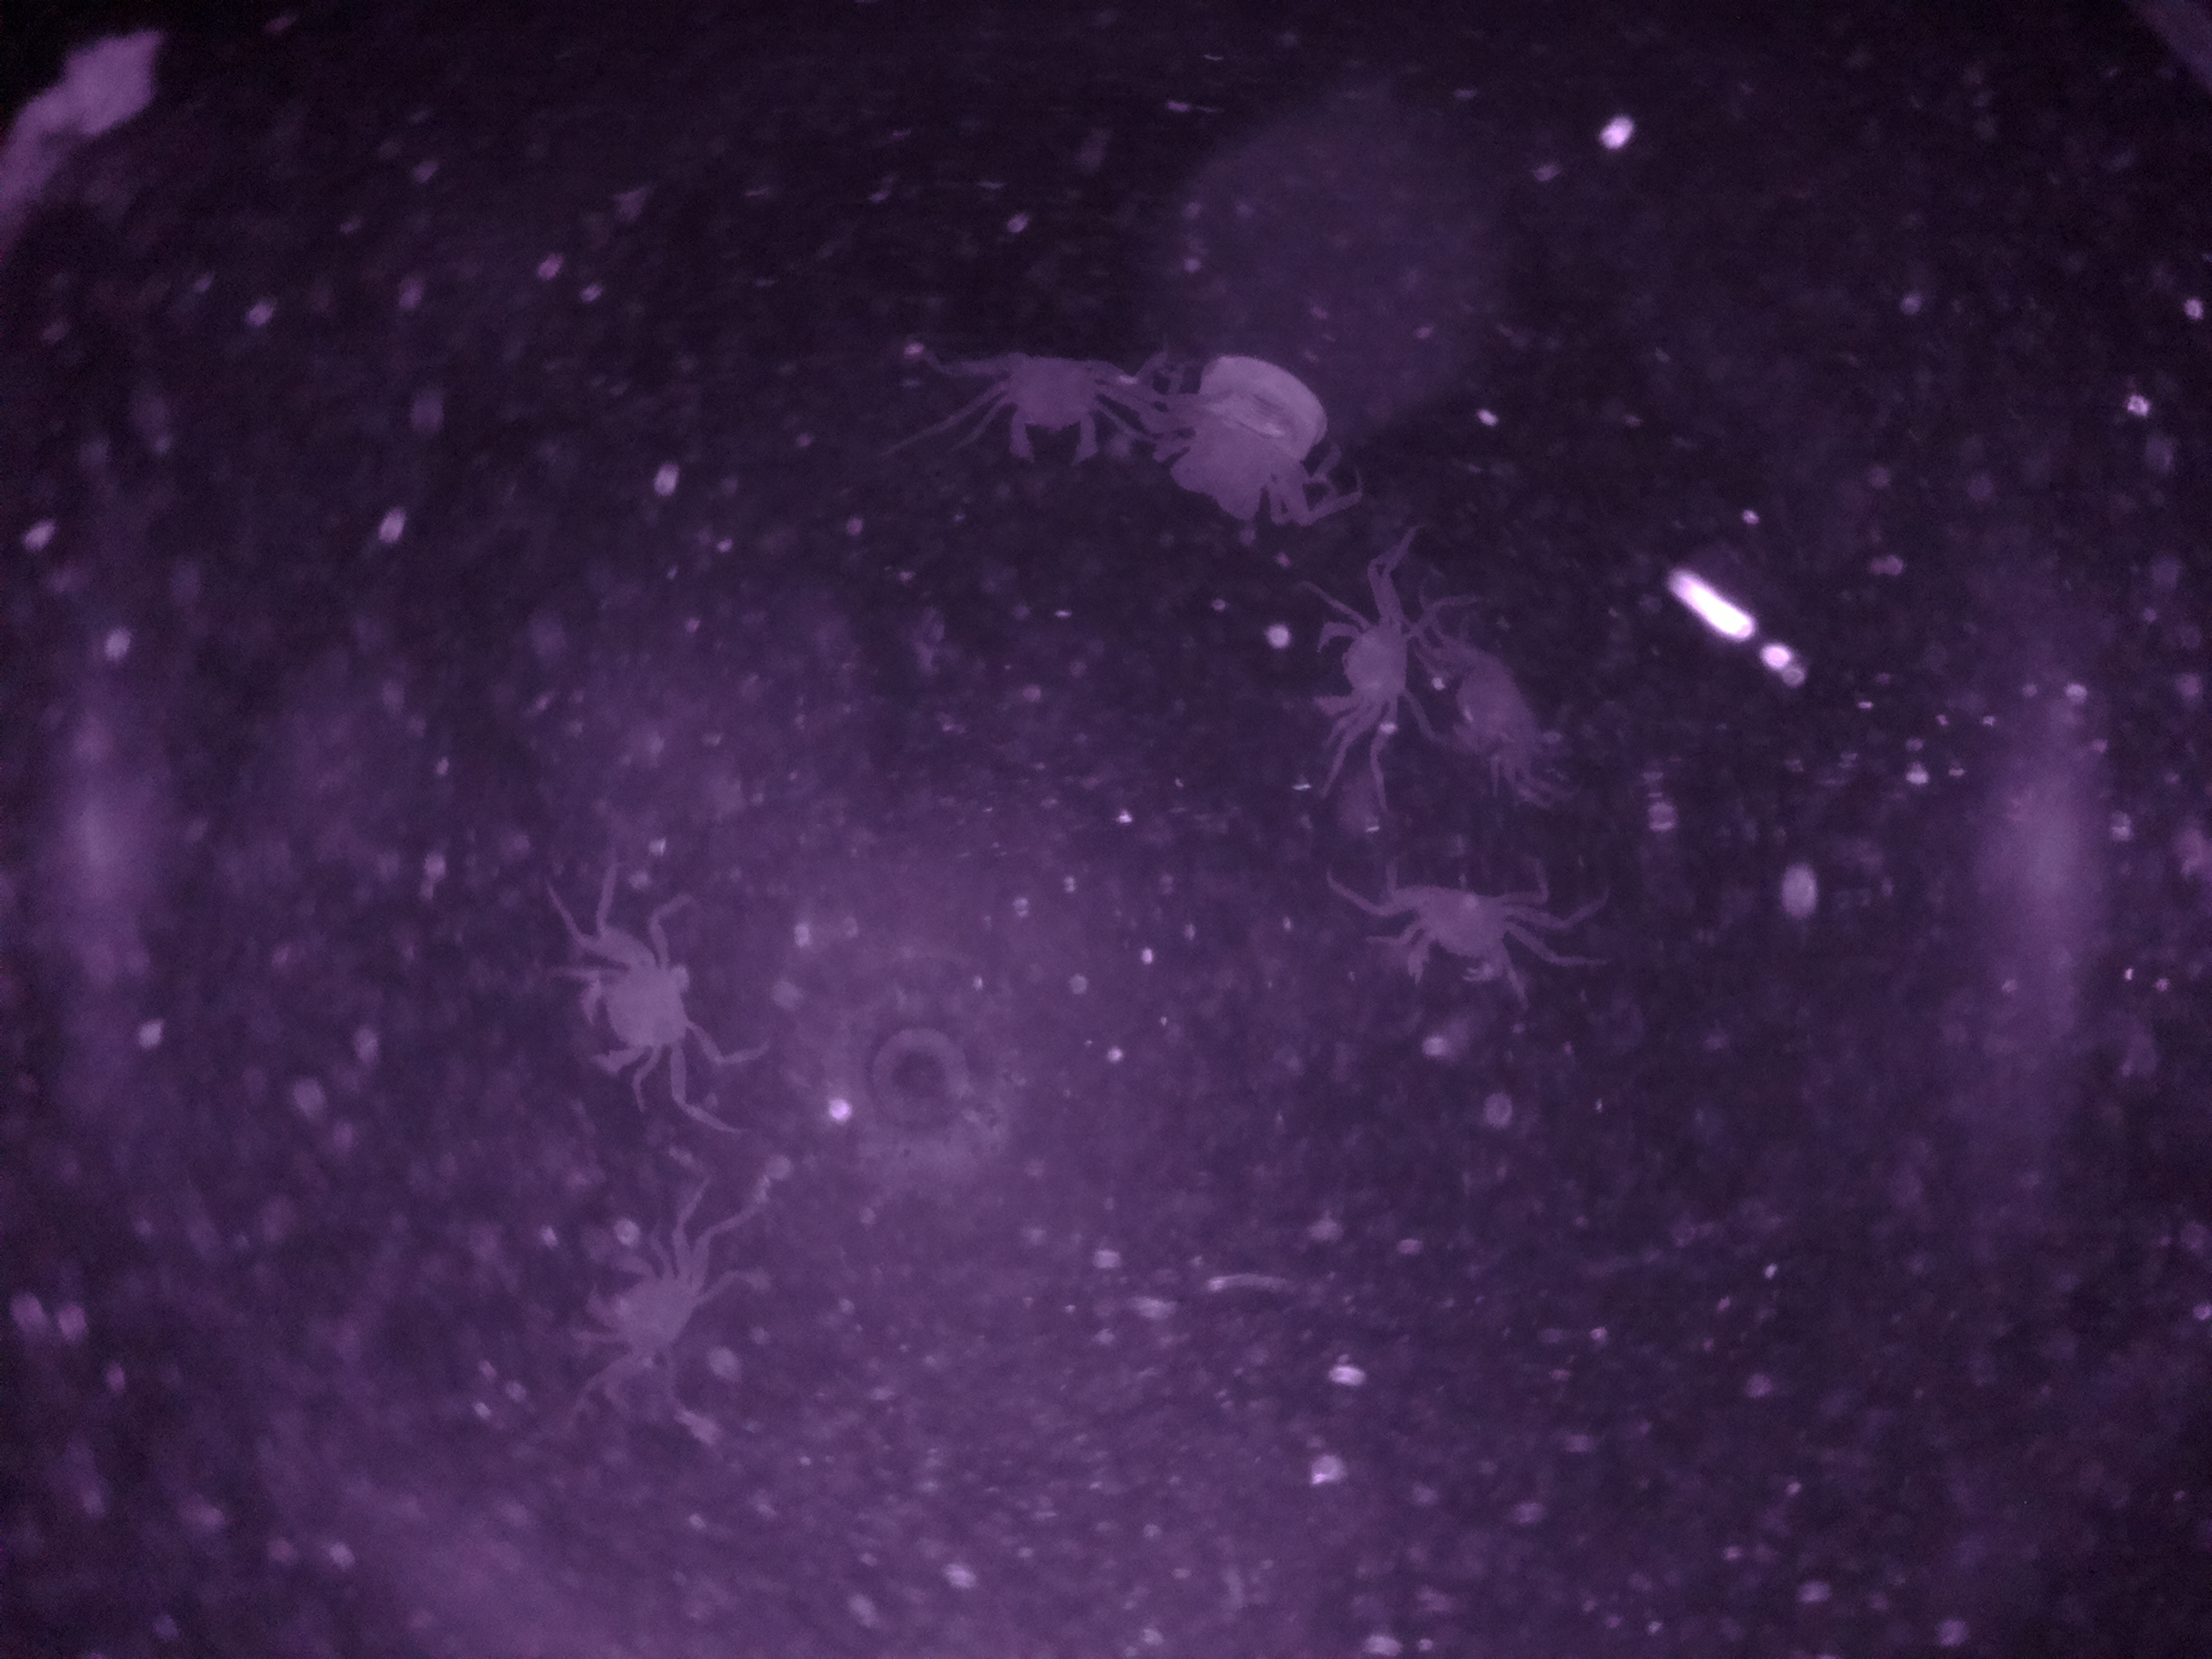Crab: (556, 1168, 745, 1408), (554, 870, 733, 1115), (1292, 532, 1437, 809), (1324, 859, 1606, 993)
